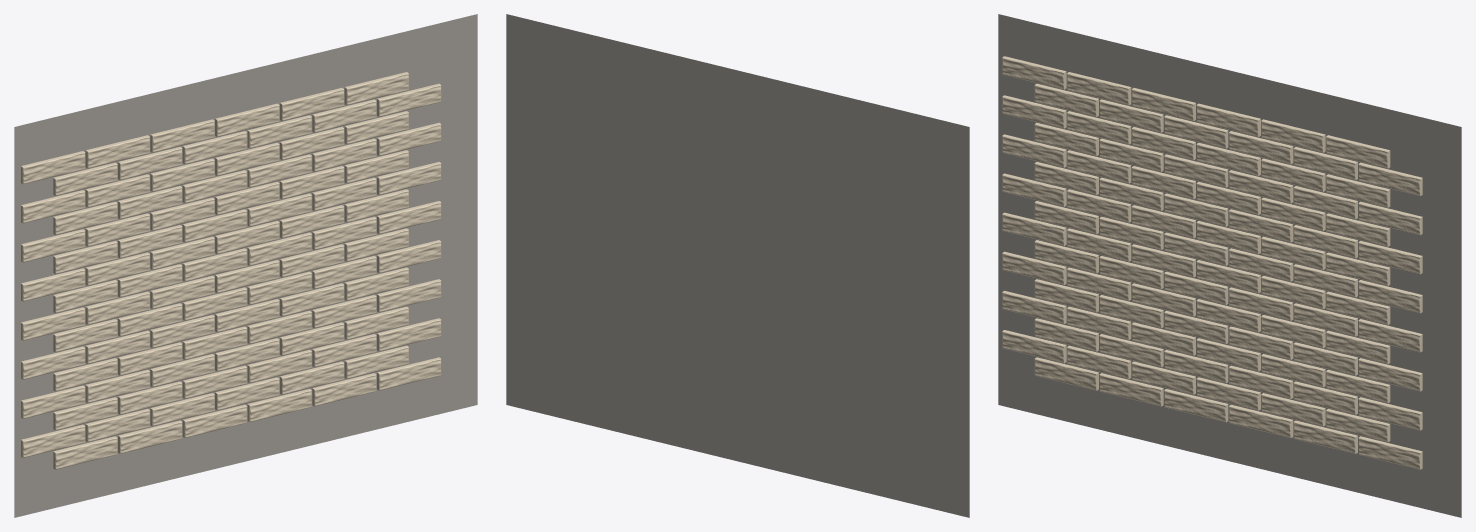
File: terilgan.glb
3 renders of one model, left to right at view 1: azimuth 30°, elevation 25°; view 2: azimuth 150°, elevation 25°; view 3: azimuth 330°, elevation 25°, orthographic.
Parts seen in each view (by area): view 1: Plane, t1_3, t2_0, t3_3, t0_0, t0_1, t1_2, t2_5, t4_0, t6_1, t7_3, t10_1 (+85 smaller); view 2: Plane; view 3: Plane, t1_3, t2_5, t3_3, t0_4, t0_5, t1_0, t1_4, t2_0, t4_5, t6_4, t7_3 (+85 smaller).
Part boxes in pixels (bbox=[...]): Plane: bbox=[14, 14, 477, 517]; t1_3: bbox=[215, 377, 279, 410]; t2_0: bbox=[53, 397, 117, 430]; t3_3: bbox=[215, 338, 279, 371]; t0_0: bbox=[53, 436, 117, 469]; t0_1: bbox=[118, 420, 182, 453]; t1_2: bbox=[150, 393, 214, 426]; t2_5: bbox=[377, 318, 441, 351]; t4_0: bbox=[53, 358, 117, 391]; t6_1: bbox=[118, 303, 182, 336]; t7_3: bbox=[215, 260, 279, 293]; t10_1: bbox=[118, 225, 182, 258]; Plane: bbox=[506, 14, 969, 517]; Plane: bbox=[998, 14, 1461, 517]; t1_3: bbox=[1196, 377, 1260, 410]; t2_5: bbox=[1358, 397, 1422, 430]; t3_3: bbox=[1196, 338, 1260, 371]; t0_4: bbox=[1293, 420, 1357, 453]; t0_5: bbox=[1358, 436, 1422, 469]; t1_0: bbox=[1002, 330, 1066, 363]; t1_4: bbox=[1261, 393, 1325, 426]; t2_0: bbox=[1034, 318, 1098, 351]; t4_5: bbox=[1358, 358, 1422, 391]; t6_4: bbox=[1293, 303, 1357, 336]; t7_3: bbox=[1196, 260, 1260, 293].
Bounding box in the file's own units: 1.86 × 1.5 × 0.0204.
